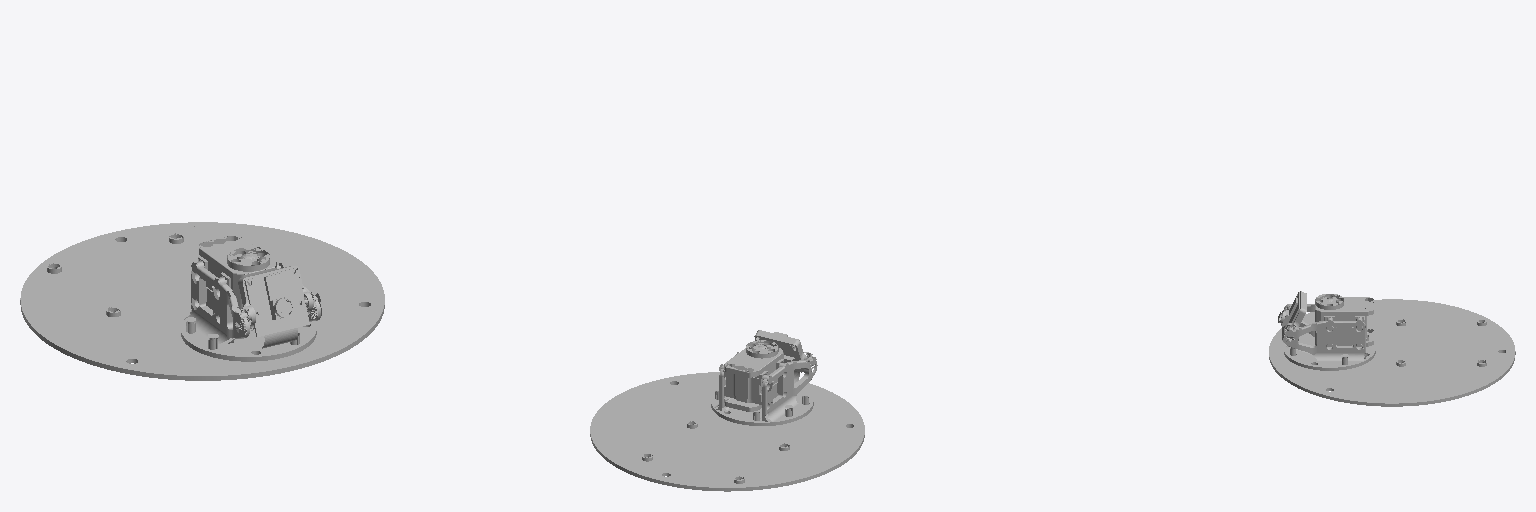
The robot description file, URDF, robot "poppy_ergo_jr":
<?xml version="1.0" ?>
<!-- =================================================================================== -->
<!-- |    This document was autogenerated by xacro from poppy_ergo_jr.urdf.xacro       | -->
<!-- |    EDITING THIS FILE BY HAND IS NOT RECOMMENDED                                 | -->
<!-- =================================================================================== -->
<robot name="poppy_ergo_jr">
  <link name="base_link">
    <visual>
      <origin rpy="0 0 0" xyz="0 0 0"/>
      <geometry>
        <mesh filename="meshes/base.stl"/>
      </geometry>
      <material name="">
        <color rgba="0.752941176470588 0.752941176470588 0.752941176470588 1"/>
      </material>
    </visual>
    <collision>
      <origin rpy="0 0 0" xyz="0 0.038 0.015"/>
      <geometry>
        <cylinder length="0.03" radius="0.08"/>
      </geometry>
    </collision>
    <inertial>
      <mass value="1"/>
      <inertia ixx="1.0" ixy="0.0" ixz="0.0" iyy="1.0" iyz="0.0" izz="1.0"/>
    </inertial>
  </link>
  <link name="long_U">
    <visual>
      <origin rpy="1.5707963267949 0 0" xyz="0 0 0"/>
      <geometry>
        <mesh filename="meshes/long_U.stl"/>
      </geometry>
      <material name="">
        <color rgba="0.752941176470588 0.752941176470588 0.752941176470588 1"/>
      </material>
    </visual>
    <collision>
      <origin rpy="0 0 0" xyz="0 0 0.01"/>
      <geometry>
        <cylinder length="0.02" radius="0.02"/>
      </geometry>
    </collision>
    <inertial>
      <mass value="10"/>
      <inertia ixx="0.03" ixy="0.0" ixz="0.0" iyy="0.03" iyz="0.0" izz="0.03"/>
    </inertial>
  </link>
  <joint name="m1" type="continuous">
    <origin rpy="0 0 0" xyz="0 0 0.0327993216120967"/>
    <parent link="base_link"/>
    <child link="long_U"/>
    <axis xyz="0 0 1"/>
  </joint>
  <link name="section_1">
    <visual>
      <origin rpy="0 1.5707963267949 0" xyz="0 0 0"/>
      <geometry>
        <mesh filename="meshes/section_1.stl"/>
      </geometry>
      <material name="">
        <color rgba="0.752941176470588 0.752941176470588 0.752941176470588 1"/>
      </material>
    </visual>
    <collision>
      <origin rpy="0 1.5707963267949 0" xyz="0.025 0 0"/>
      <geometry>
        <cylinder length="0.05" radius="0.02"/>
      </geometry>
    </collision>
    <inertial>
      <mass value="0.1"/>
      <inertia ixx="0.03" ixy="0.0" ixz="0.0" iyy="0.03" iyz="0.0" izz="0.03"/>
    </inertial>
  </link>
  <joint name="m2" type="continuous">
    <origin rpy="0 -1.5707963267949 0" xyz="0 0 0.0240006783879033"/>
    <parent link="long_U"/>
    <child link="section_1"/>
    <axis xyz="0 0 -1"/>
  </joint>
  <link name="section_2">
    <visual>
      <origin rpy="0 1.5707963267949 0" xyz="0 0 0"/>
      <geometry>
        <mesh filename="meshes/section_2.stl"/>
      </geometry>
      <material name="">
        <color rgba="0.752941176470588 0.752941176470588 0.752941176470588 1"/>
      </material>
    </visual>
    <collision>
      <origin rpy="0 1.5707963267949 0" xyz="0.025 0 0"/>
      <geometry>
        <cylinder length="0.05" radius="0.02"/>
      </geometry>
    </collision>
    <inertial>
      <mass value="0.1"/>
      <inertia ixx="0.03" ixy="0.0" ixz="0.0" iyy="0.03" iyz="0.0" izz="0.03"/>
    </inertial>
  </link>
  <joint name="m3" type="continuous">
    <origin rpy="0 0 0" xyz="0.054 0 0"/>
    <parent link="section_1"/>
    <child link="section_2"/>
    <axis xyz="0 0 -1"/>
  </joint>
  <link name="section_3">
    <visual>
      <origin rpy="0 3.14159268 0" xyz="0 0 0"/>
      <geometry>
        <mesh filename="meshes/section_3.stl"/>
      </geometry>
      <material name="">
        <color rgba="0.752941176470588 0.752941176470588 0.752941176470588 1"/>
      </material>
    </visual>
    <collision>
      <origin rpy="1.5707963267949 0 0" xyz="0 -0.025 0"/>
      <geometry>
        <cylinder length="0.05" radius="0.02"/>
      </geometry>
    </collision>
    <inertial>
      <mass value="0.1"/>
      <inertia ixx="0.03" ixy="0.0" ixz="0.0" iyy="0.03" iyz="0.0" izz="0.03"/>
    </inertial>
  </link>
  <joint name="m4" type="continuous">
    <origin rpy="0 -1.5707963267949 0" xyz="0.045 0 0"/>
    <parent link="section_2"/>
    <child link="section_3"/>
    <axis xyz="0 0 -1"/>
  </joint>
  <link name="section_4">
    <visual>
      <origin rpy="0 -1.5707963267949 0" xyz="0 -0.058 0"/>
      <geometry>
        <!-- This link mesh includes both the wrist and fixed finger-->
        <mesh filename="meshes/section_4.stl"/>
      </geometry>
      <material name="">
        <color rgba="0.752941176470588 0.752941176470588 0.752941176470588 1"/>
      </material>
    </visual>
    <collision>
      <origin rpy="1.5707963267949 0 0" xyz="0 -0.035 0"/>
      <geometry>
        <!-- <cylinder length="0.06" radius="0.02"/> -->
        <cylinder length="0.03" radius="0.02"/>
        <box size="0.05 0.02 0.03"/>
      </geometry>
    </collision>
    <inertial>
      <mass value="0.1"/>
      <inertia ixx="0.03" ixy="0.0" ixz="0.0" iyy="0.03" iyz="0.0" izz="0.03"/>
    </inertial>
  </link>
  <joint name="m5" type="continuous">
    <origin rpy="0 -1.5707963267949 0" xyz="0 -0.048 0"/>
    <parent link="section_3"/>
    <child link="section_4"/>
    <axis xyz="0 0 1"/>
  </joint>
  <link name="fixed_tip">
    <!-- comment visual placeholder to see collision shape -->
    <visual>
      <origin rpy="0 0 0" xyz="0 0 0"/>
      <geometry><box size="0 0 0"/></geometry>
    </visual>
    <collision>
      <origin rpy="0 0 0" xyz="0 0.0125 0"/>
      <geometry>
        <box size="0.020 0.025 0.003"/>
      </geometry>
    </collision>
    <inertial>
      <mass value="1.0"/>
      <inertia ixx="1.0" ixy="0.0" ixz="0.0" iyy="1.0" iyz="0.0" izz="1.0"/>
    </inertial>
  </link>
  <joint name="t7f" type="fixed">
    <origin rpy="0 0 0" xyz="0 -0.125 0.0155"/>
    <parent link="section_4"/>
    <child link="fixed_tip"/>
  </joint>

  <link name="section_5">
    <visual>
      <origin rpy="0 0 0" xyz="0 0 0"/>
      <geometry>
        <!-- This mesh is the movable finger -->
        <mesh filename="meshes/gripper.stl"/>
      </geometry>
      <material name="">
        <color rgba="0.752941176470588 0.752941176470588 0.752941176470588 1"/>
      </material>
    </visual>
    <inertial>
      <mass value="0.1"/>
      <inertia ixx="0.03" ixy="0.0" ixz="0.0" iyy="0.03" iyz="0.0" izz="0.03"/>
    </inertial>
  </link>
  <joint name="m6" type="continuous">
    <origin rpy="0 -1.5707963267949 0" xyz="0 -0.058 0"/>
    <axis xyz="0 0 -1"/>
	<limit effort="3.1" upper="0.174533" lower="-0.3" velocity="7.0"></limit>
    <parent link="section_4"/>
    <child link="section_5"/>
  </joint>  
  <link name="moving_tip">
    <!-- comment visual placeholder to see collision shape -->
    <visual>
      <origin rpy="0 0 0" xyz="0 0 0"/>
      <geometry><box size="0 0 0"/></geometry>
    </visual>
    <collision>
      <origin rpy="0 0 0" xyz="0 0.0125 0"/>
      <geometry>
        <box size="0.003 0.025 0.02"/>
      </geometry>
    </collision>
    <inertial>
      <mass value="1"/>
      <inertia ixx="1.0" ixy="0.0" ixz="0.0" iyy="1.0" iyz="0.0" izz="1.0"/>
    </inertial>
  </link>  
  <joint name="t7m" type="fixed">
    <origin rpy="0 0 0" xyz="-0.0155 -0.0675 0"/>
    <parent link="section_5"/>
    <child link="moving_tip"/>
  </joint>

  <transmission name="trans_m1">
    <type>transmission_interface/SimpleTransmission</type>
    <joint name="m1">
      <hardwareInterface>hardware_interface/EffortJointInterface</hardwareInterface>
    </joint>
    <actuator name="m1_motor">
      <hardwareInterface>hardware_interface/EffortJointInterface</hardwareInterface>
      <mechanicalReduction>1</mechanicalReduction>
    </actuator>
  </transmission>
  <transmission name="trans_m2">
    <type>transmission_interface/SimpleTransmission</type>
    <joint name="m2">
      <hardwareInterface>hardware_interface/EffortJointInterface</hardwareInterface>
    </joint>
    <actuator name="m2_motor">
      <hardwareInterface>hardware_interface/EffortJointInterface</hardwareInterface>
      <mechanicalReduction>1</mechanicalReduction>
    </actuator>
  </transmission>
  <transmission name="trans_m3">
    <type>transmission_interface/SimpleTransmission</type>
    <joint name="m3">
      <hardwareInterface>hardware_interface/EffortJointInterface</hardwareInterface>
    </joint>
    <actuator name="m3_motor">
      <hardwareInterface>hardware_interface/EffortJointInterface</hardwareInterface>
      <mechanicalReduction>1</mechanicalReduction>
    </actuator>
  </transmission>
  <transmission name="trans_m4">
    <type>transmission_interface/SimpleTransmission</type>
    <joint name="m4">
      <hardwareInterface>hardware_interface/EffortJointInterface</hardwareInterface>
    </joint>
    <actuator name="m4_motor">
      <hardwareInterface>hardware_interface/EffortJointInterface</hardwareInterface>
      <mechanicalReduction>1</mechanicalReduction>
    </actuator>
  </transmission>
  <transmission name="trans_m5">
    <type>transmission_interface/SimpleTransmission</type>
    <joint name="m5">
      <hardwareInterface>hardware_interface/EffortJointInterface</hardwareInterface>
    </joint>
    <actuator name="m5_motor">
      <hardwareInterface>hardware_interface/EffortJointInterface</hardwareInterface>
      <mechanicalReduction>1</mechanicalReduction>
    </actuator>
  </transmission>
  <transmission name="trans_m6">
    <type>transmission_interface/SimpleTransmission</type>
    <joint name="m6">
      <hardwareInterface>hardware_interface/EffortJointInterface</hardwareInterface>
    </joint>
    <actuator name="m6_motor">
      <hardwareInterface>hardware_interface/EffortJointInterface</hardwareInterface>
      <mechanicalReduction>1</mechanicalReduction>
    </actuator>
  </transmission>
  <gazebo>
    <plugin filename="libgazebo_ros_control.so" name="gazebo_ros_control">
      <robotNamespace>/</robotNamespace>
    </plugin>
  </gazebo>
</robot>

--- Facts derived from the render (not from the file) ---
The picture shows the robot from 3 angles, left to right: view 1: azimuth 30°, elevation 25°; view 2: azimuth 150°, elevation 25°; view 3: azimuth 270°, elevation 25°; orthographic projection.
Robot: poppy_ergo_jr — 9 links, 8 joints (6 continuous, 2 fixed); root link base_link; default pose: all joints at 0.
Links seen in each view (by area): view 1: base_link; view 2: base_link; view 3: base_link.
Boxes of the visible links, left/top/right/bottom form: base_link: left=20, top=222, right=384, bottom=380; base_link: left=590, top=330, right=864, bottom=491; base_link: left=1269, top=291, right=1515, bottom=406.
Bounding box of the posed robot: 0.15 × 0.2864 × 0.16 m (x, y, z).
Meshes: 7 distinct files referenced, 1 mesh visuals loaded (1 binary STL); not drawn: 6 (reference not matched to a file when rendering).